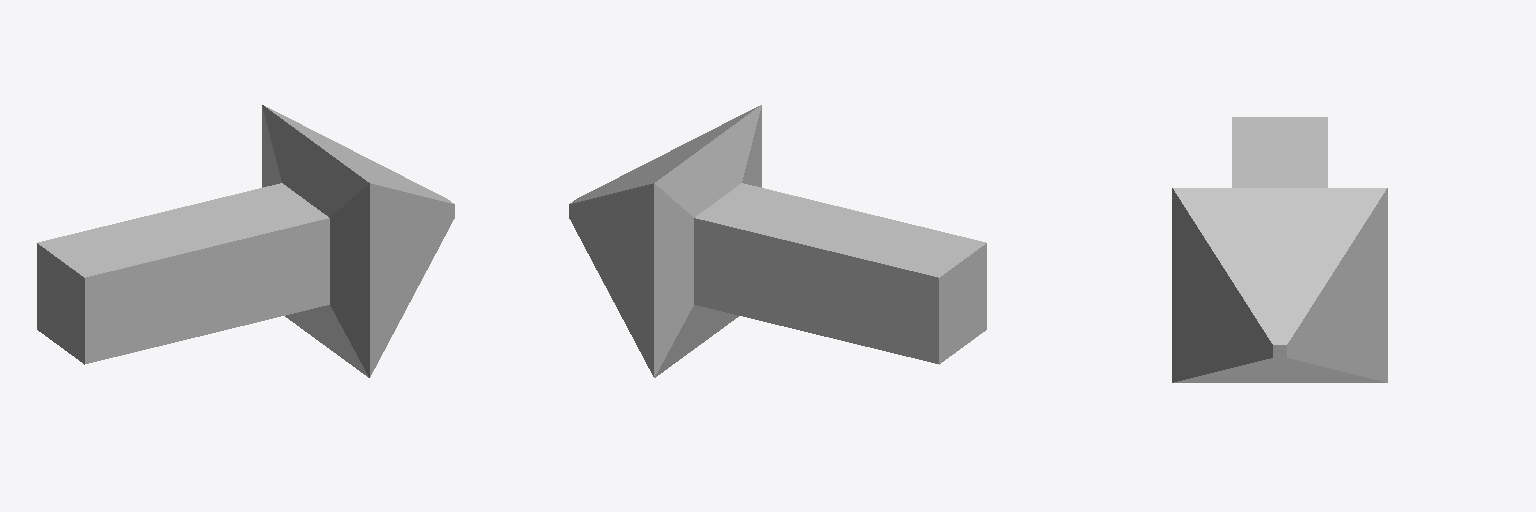
File: boat2_3dex_arrowAccel.obj
The picture shows the model from 3 angles: view 1: azimuth 30°, elevation 25°; view 2: azimuth 150°, elevation 25°; view 3: azimuth 270°, elevation 25°; orthographic projection.
Visible parts, largest first — view 1: arrowAccel_Cube; view 2: arrowAccel_Cube; view 3: arrowAccel_Cube.
Boxes of the visible parts, <box> form: arrowAccel_Cube: <box>37,105,454,377</box>; arrowAccel_Cube: <box>569,105,986,377</box>; arrowAccel_Cube: <box>1172,117,1387,382</box>.
Size of the model in its own units: 9.43 by 4.5 by 4.5.